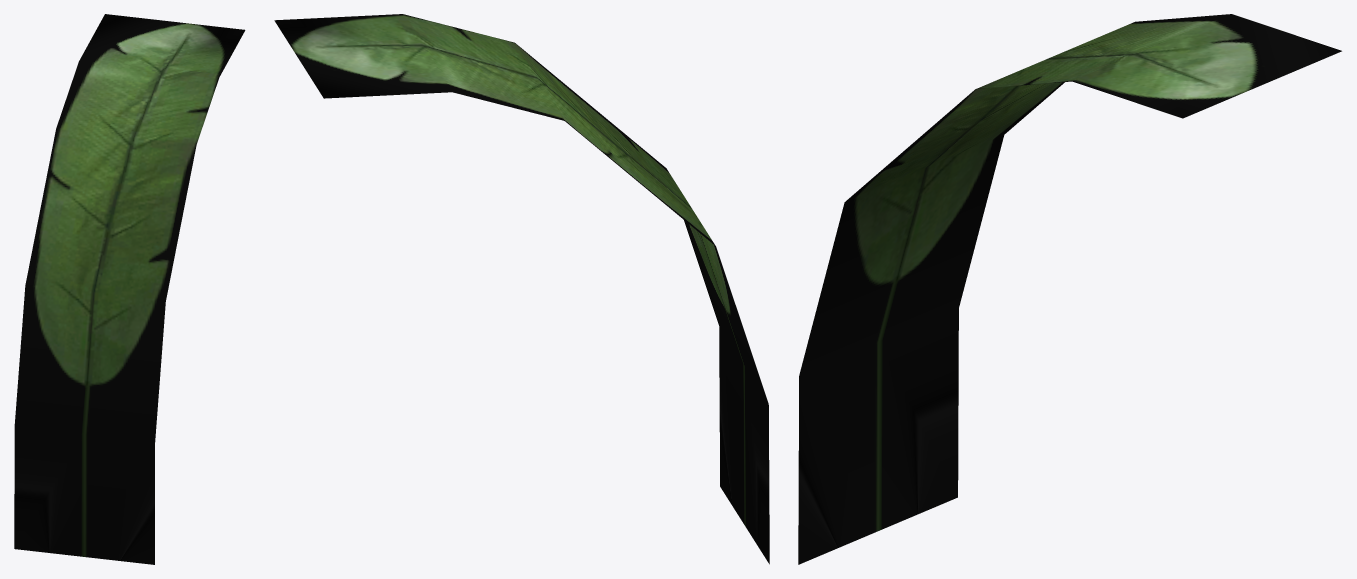
File: dub_flower_vase_dp2_lod0.glb
3 views of the same model, side by side, from view 1: azimuth 30°, elevation 25°; view 2: azimuth 150°, elevation 25°; view 3: azimuth 270°, elevation 25° (orthographic). The views are drawn at different scales.
Parts seen in each view (by area): view 1: surf0; view 2: surf0; view 3: surf0.
Boxes of the visible parts, x1,y1,x2,y2 form: surf0: (14, 14, 245, 564); surf0: (274, 14, 769, 564); surf0: (798, 14, 1341, 564).
Size of the model in its own units: 21.9 by 27.03 by 21.9.
